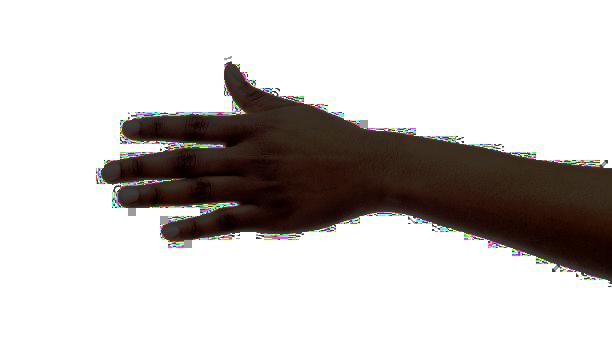Paper: (100, 59, 368, 241)
